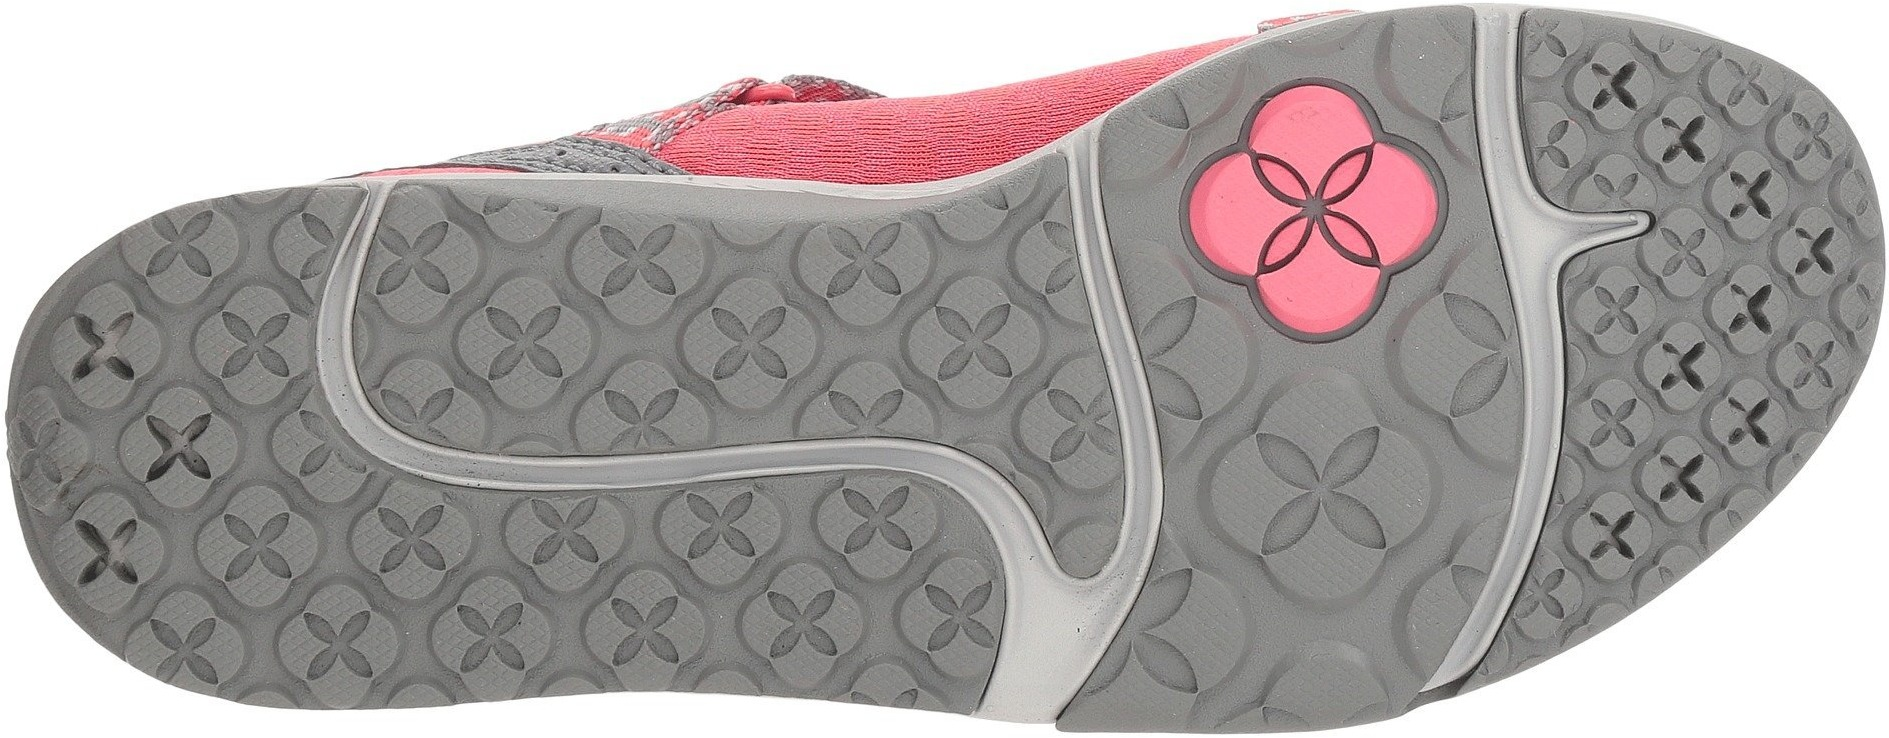circle: (1191, 78, 1478, 377)
line: (1460, 411, 1601, 559)
star: (412, 190, 1064, 441), (23, 175, 320, 698), (337, 491, 957, 696), (1643, 33, 1885, 497), (1191, 78, 1478, 377), (1190, 358, 1416, 702), (37, 289, 319, 559), (475, 201, 752, 455), (494, 497, 749, 719), (1676, 197, 1861, 379)
